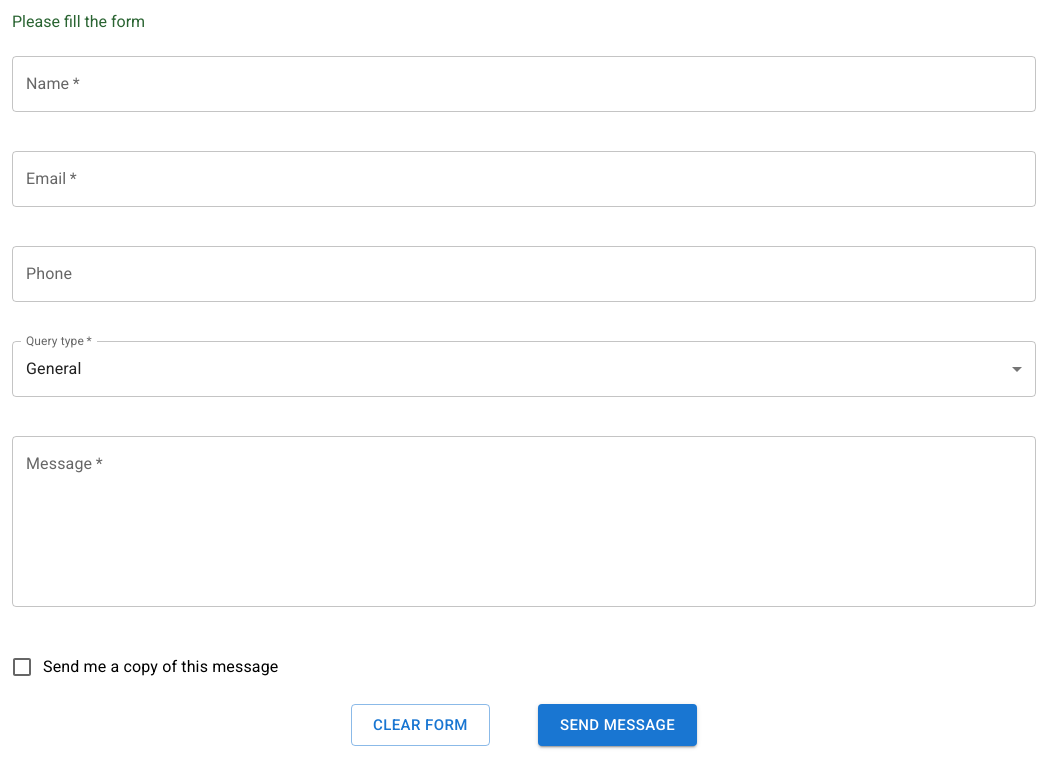
ContactForm › reset › resets the email field
Type "jane@example.com" into the field labelled "Email *" at (524, 179), box [12,151,1036,207]
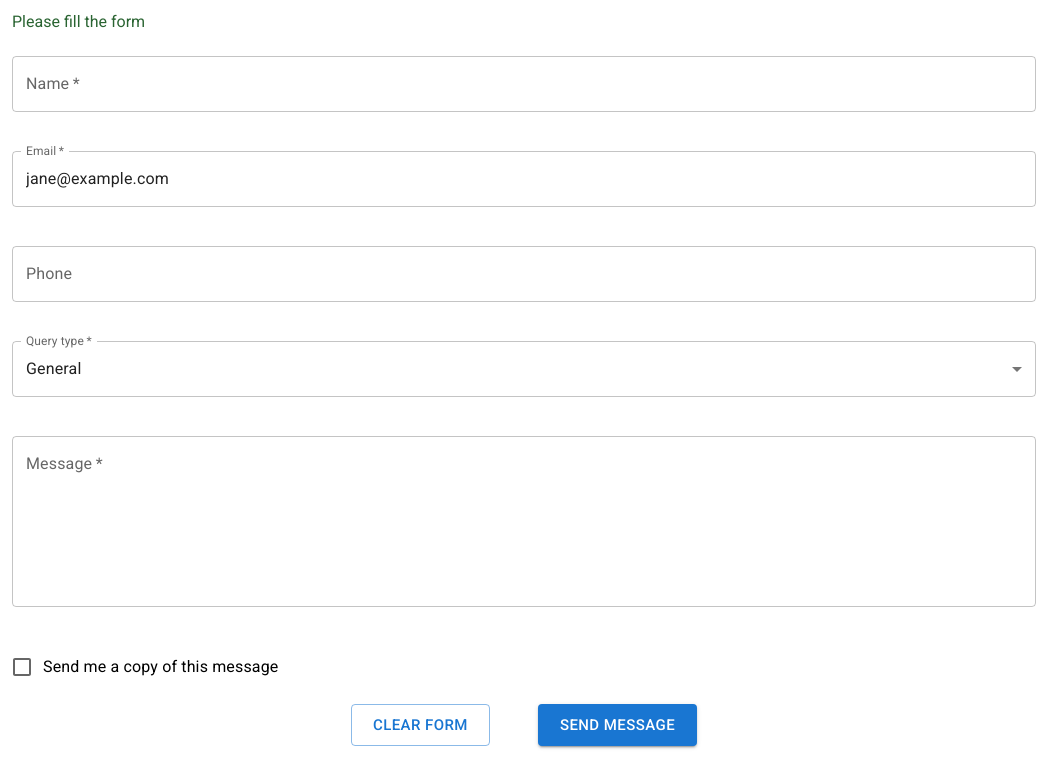
Click the button with test id "contact-form-reset-button" at (420, 725), box [351,704,490,746]
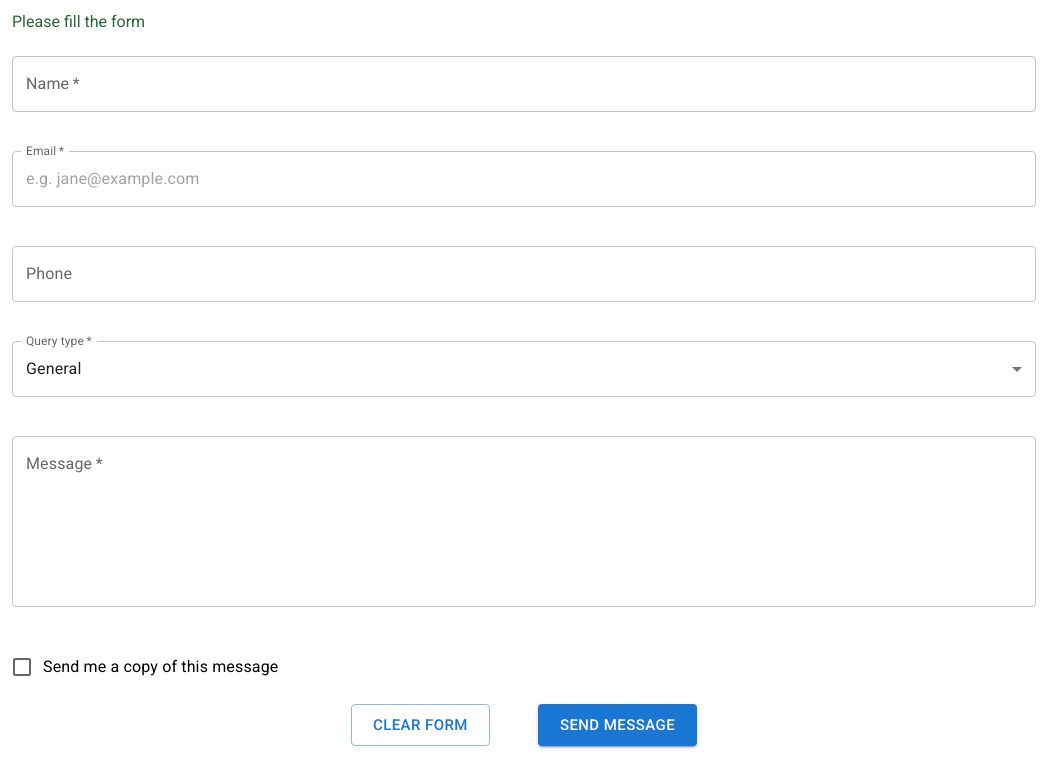
Check: the field labelled "Email *" is empty, box [12,151,1036,207]
